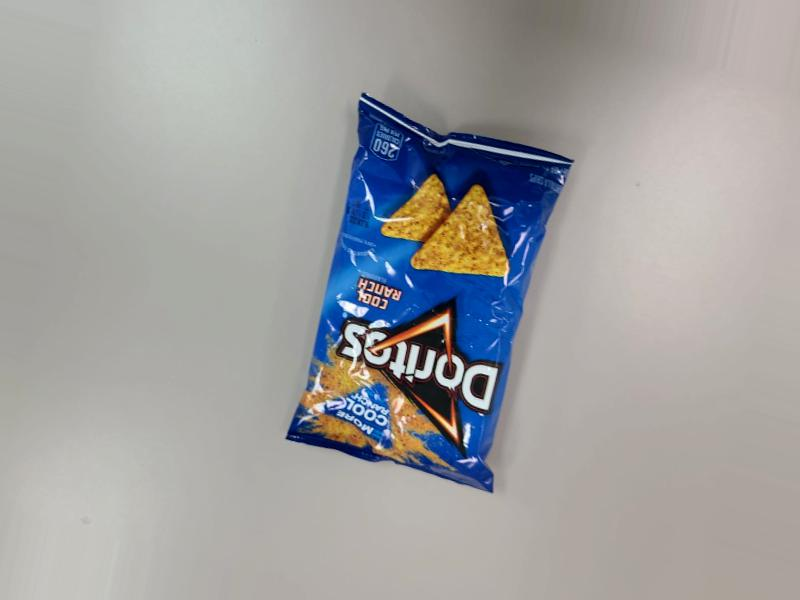doritos: (293, 101, 572, 501)
